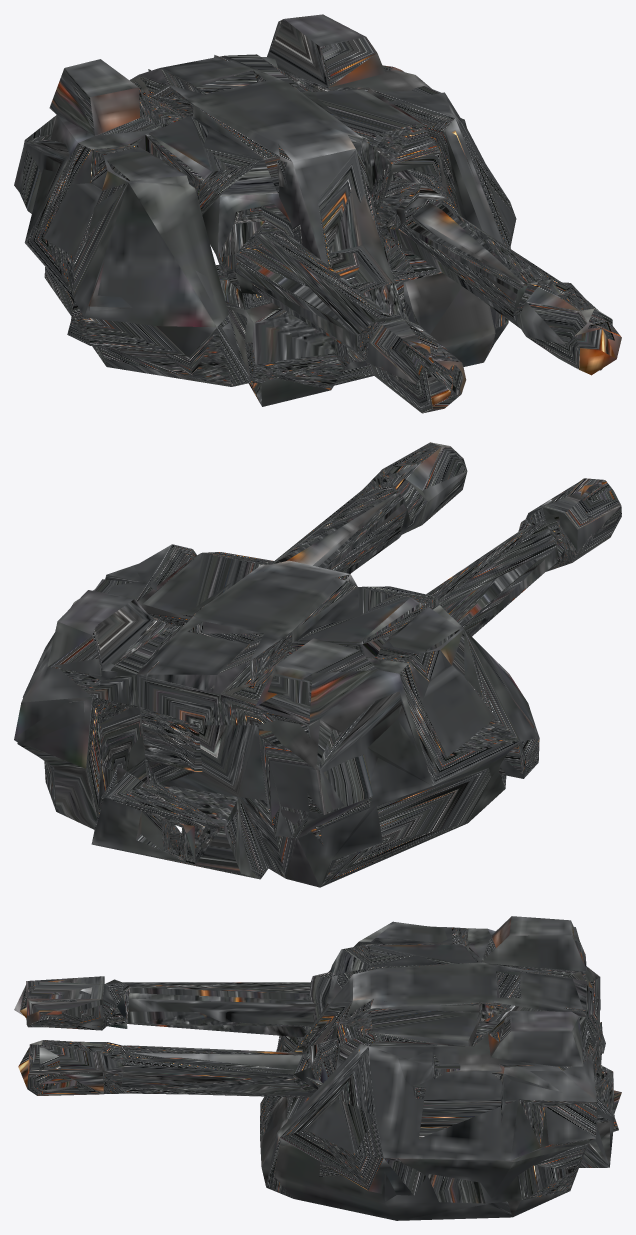
Rendered from gun-turret.glb.
The picture shows the model from 3 angles, top to bottom: view 1: azimuth 30°, elevation 25°; view 2: azimuth 150°, elevation 25°; view 3: azimuth 270°, elevation 25°; orthographic projection. The views are drawn at different scales.
Bounding box in the file's own units: 0.7025 × 0.3385 × 1.03.
Materials: 1 (1 with a texture image).
